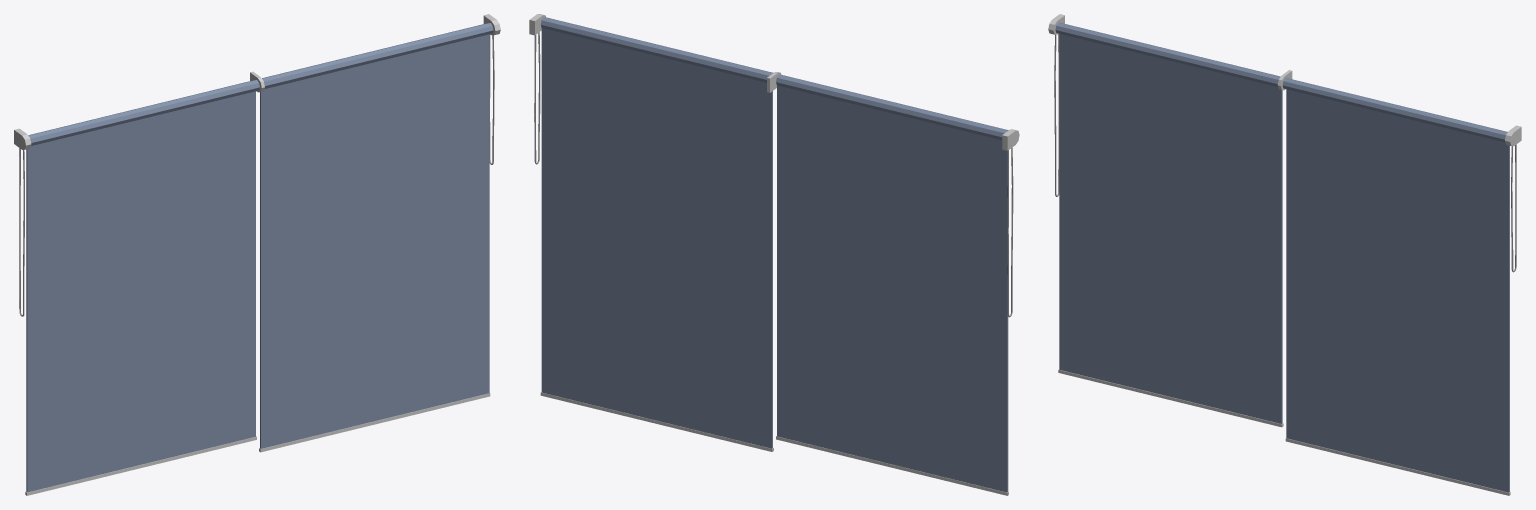
The model's file is Curtains9_C1.fbx.
3 renders of one model, left to right at view 1: azimuth 30°, elevation 25°; view 2: azimuth 150°, elevation 25°; view 3: azimuth 330°, elevation 25°, orthographic. The views are drawn at different scales.
Visible parts, largest first — view 1: Curtains9_C1; view 2: Curtains9_C1; view 3: Curtains9_C1.
Part boxes in pixels (x1,y1,x2,y2): Curtains9_C1: [14, 14, 500, 495]; Curtains9_C1: [529, 14, 1019, 495]; Curtains9_C1: [1048, 14, 1521, 495].
Size of the model in its own units: 221 by 167 by 9.55.
